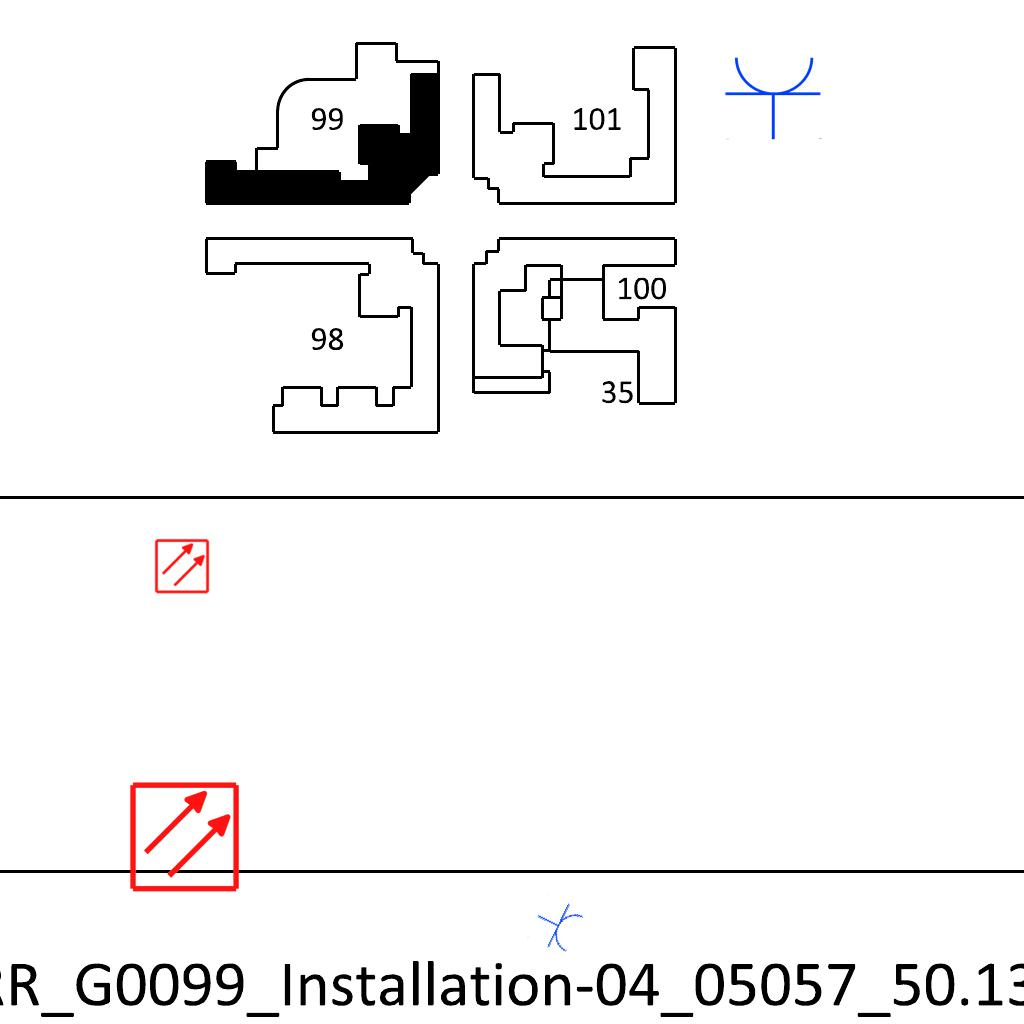RMO_Rauchmelder_optischer: (128, 780, 241, 893), (154, 538, 210, 594)
Schukosteckdose_einfach: (724, 53, 824, 140), (526, 893, 588, 958)
